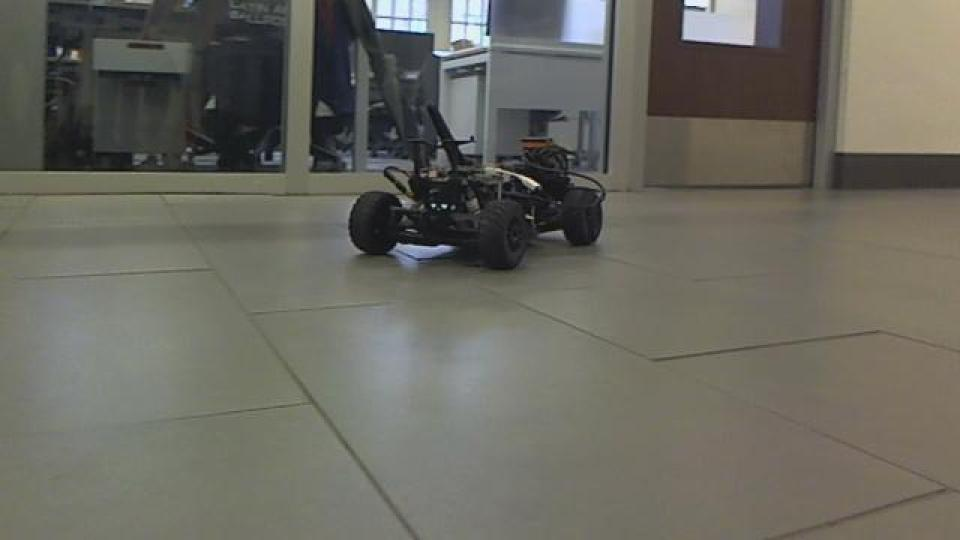car: (343, 101, 609, 273)
